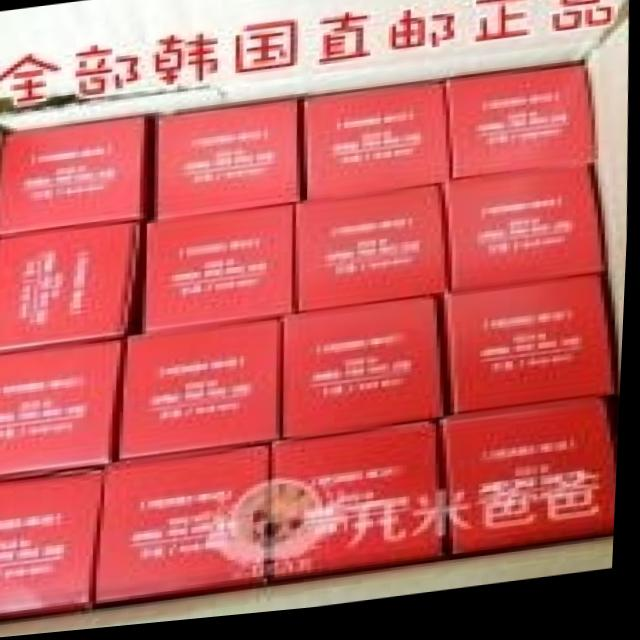box: (276, 429, 451, 592), (443, 411, 622, 567), (98, 448, 272, 606), (283, 304, 451, 446), (447, 283, 618, 421), (120, 322, 283, 462), (447, 172, 607, 303), (298, 191, 447, 317), (149, 210, 298, 334), (302, 89, 454, 206), (0, 224, 141, 350), (0, 339, 127, 478), (0, 119, 152, 234), (156, 106, 302, 223), (447, 74, 596, 187), (0, 469, 105, 617)
